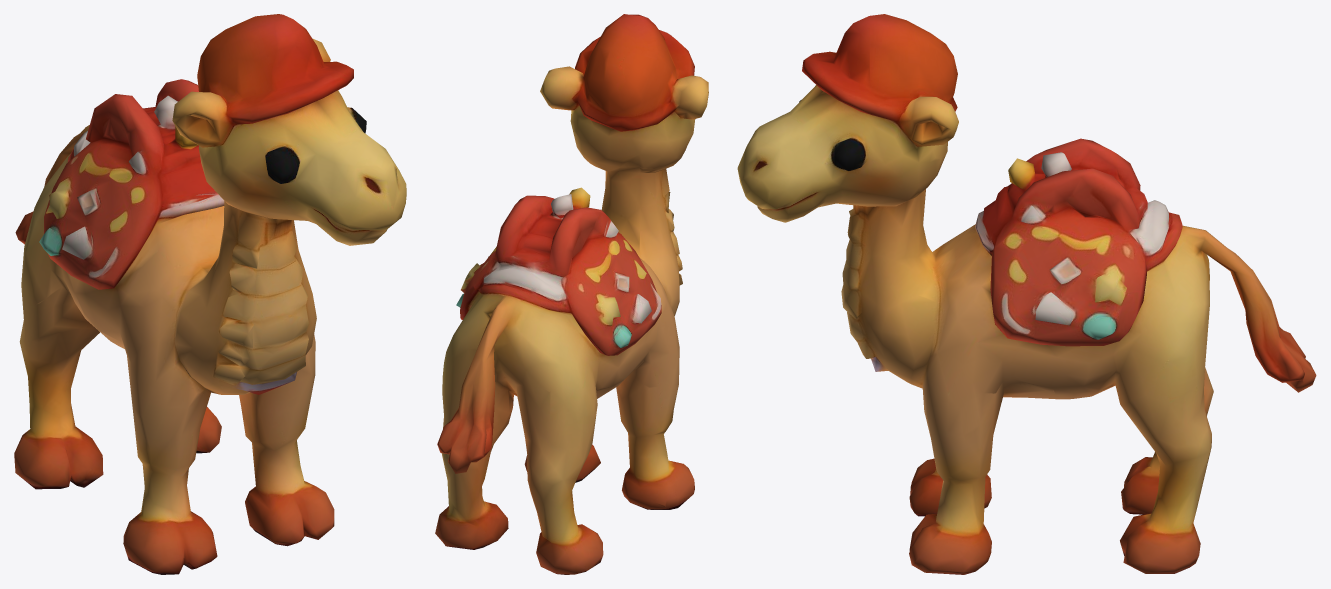
The model's file is camel.glb.
3 views of the same model, side by side, from view 1: azimuth 30°, elevation 25°; view 2: azimuth 150°, elevation 25°; view 3: azimuth 270°, elevation 25° (orthographic). The views are drawn at different scales.
Visible parts, largest first — view 1: tripo_node_3f1665b8-b20a-4d77-ab42-3907a13122e3; view 2: tripo_node_3f1665b8-b20a-4d77-ab42-3907a13122e3; view 3: tripo_node_3f1665b8-b20a-4d77-ab42-3907a13122e3.
Part boxes in pixels (x1,y1,x2,y2): tripo_node_3f1665b8-b20a-4d77-ab42-3907a13122e3: [14, 14, 406, 574]; tripo_node_3f1665b8-b20a-4d77-ab42-3907a13122e3: [435, 14, 708, 574]; tripo_node_3f1665b8-b20a-4d77-ab42-3907a13122e3: [737, 14, 1316, 574].
Size of the model in its own units: 0.3914 by 0.9976 by 1.
Materials: 1 (1 with a texture image).
